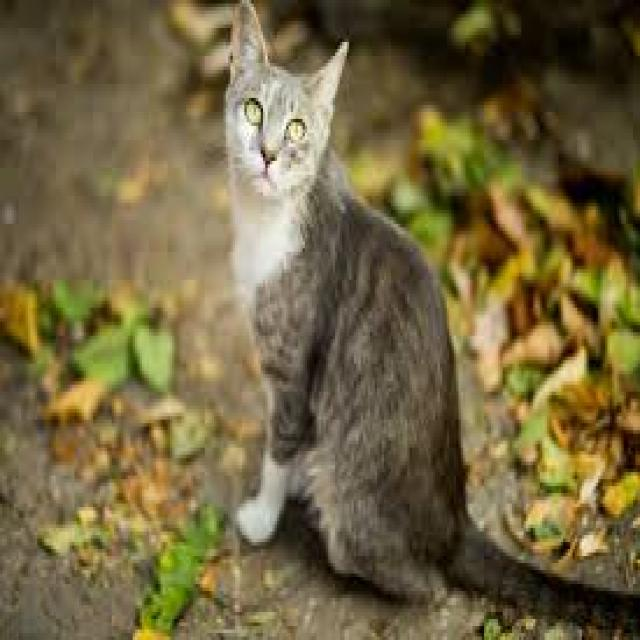Cat: (220, 0, 514, 623)
